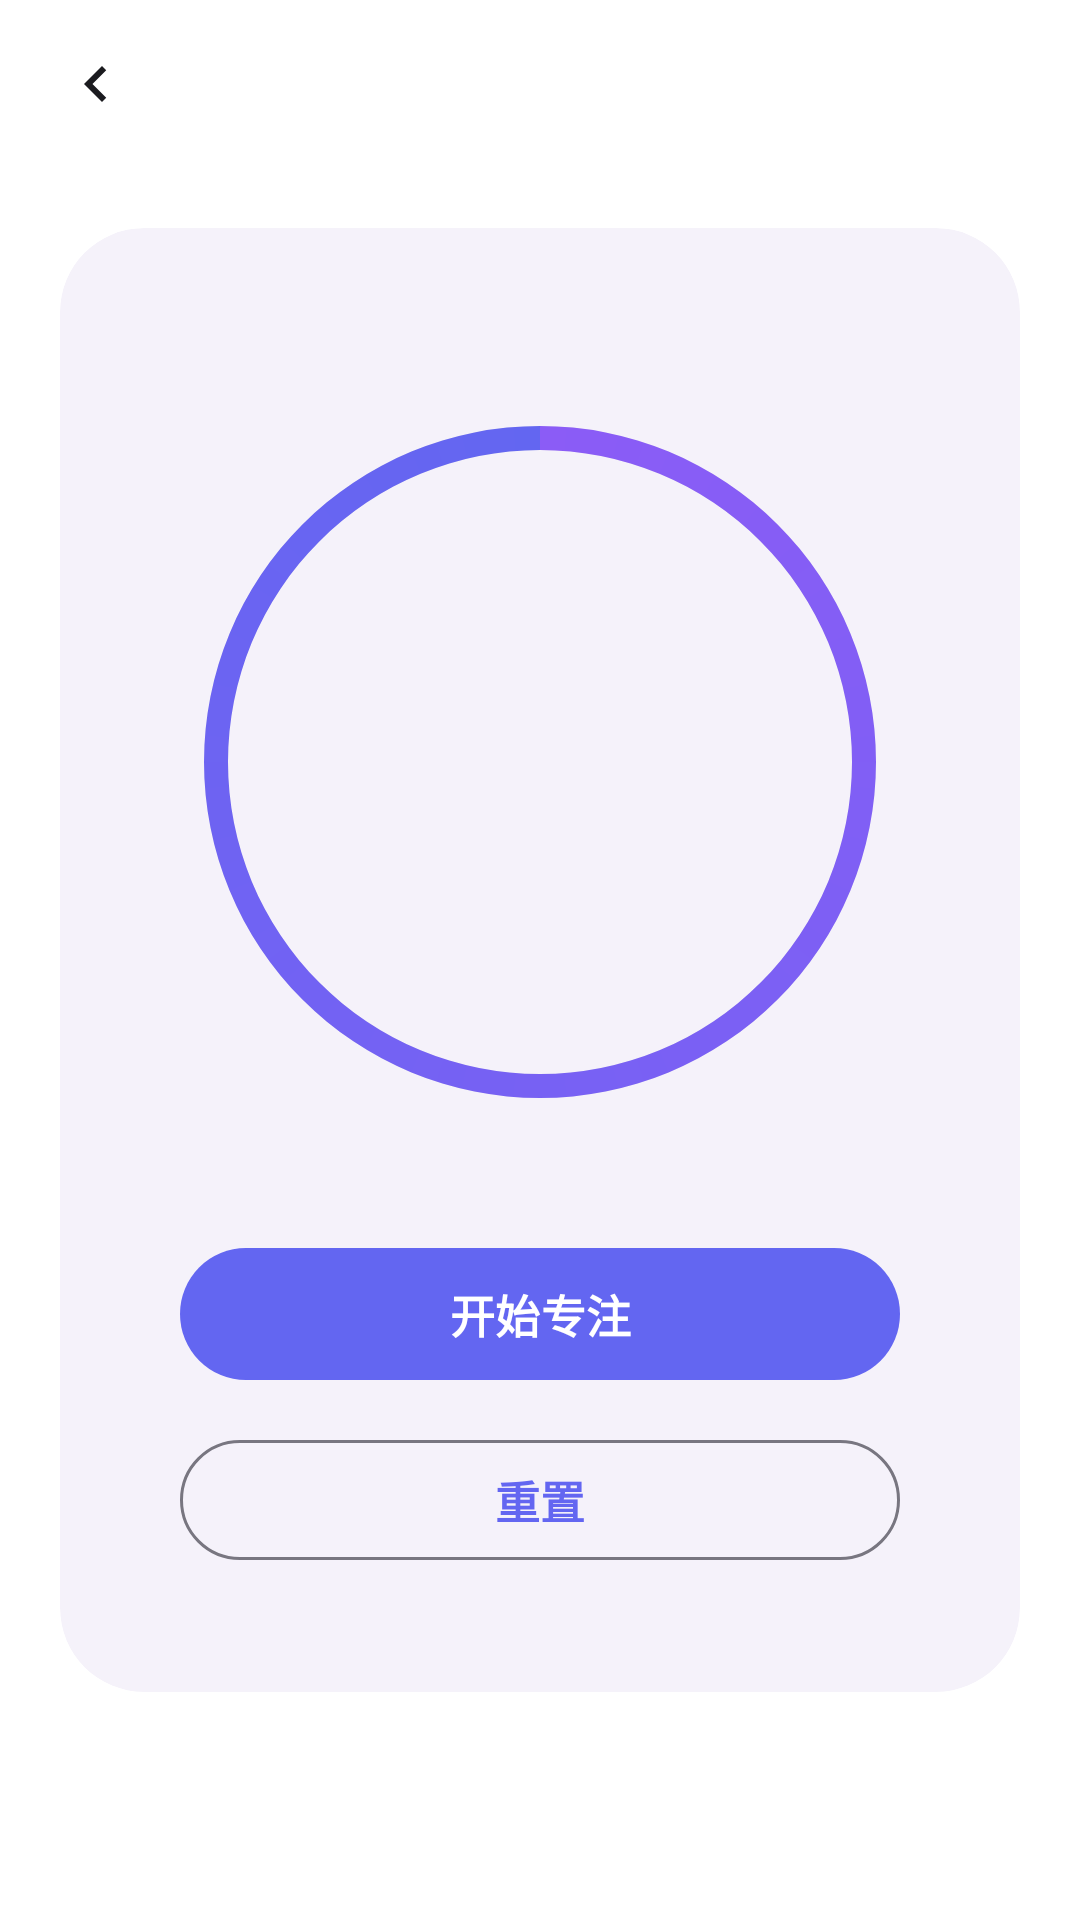

Point at icon controls on the screen. Image size 1080px×1920px, points as point (x, y).
返回: point (95, 84)
